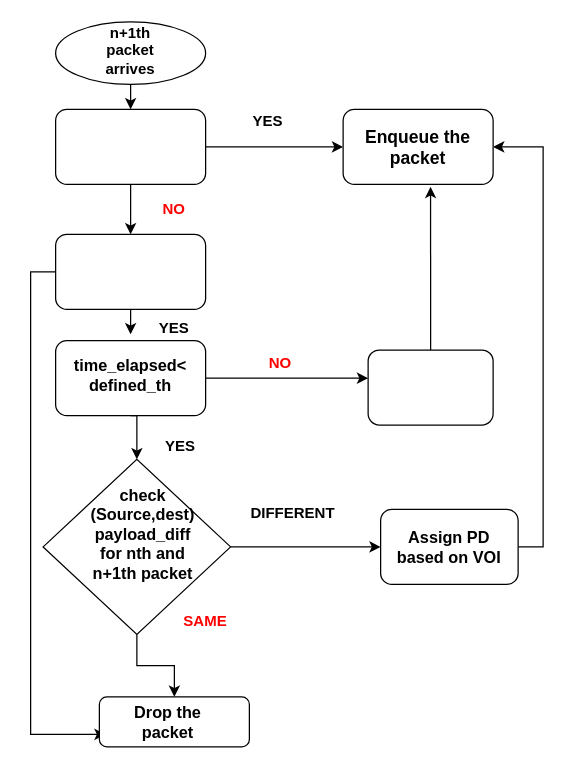
This 575x769 diagram has some shape labels left out. Each missing label, with the centre of its shape:
"Assign PD based on avg_queuelen" belongs at point (430, 387).
"buffer empty or buff_size<min_th" belongs at point (130, 146).
"min_th<buff_size <max_th" belongs at point (130, 271).
